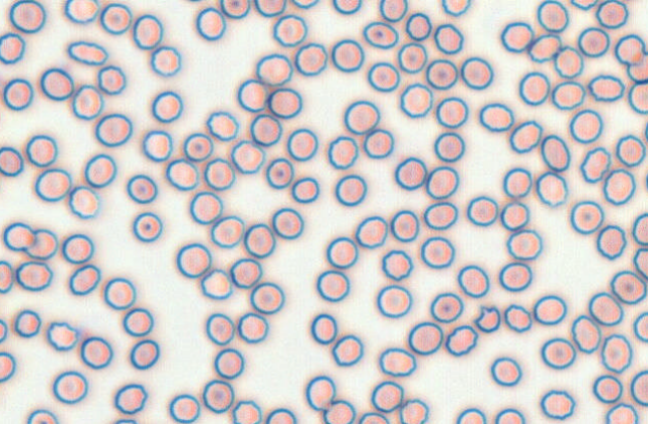RBC: (94, 112, 132, 147), (34, 167, 72, 201), (600, 333, 632, 373), (176, 242, 211, 278), (602, 168, 636, 205), (343, 100, 380, 134), (255, 53, 293, 86), (8, 0, 46, 33), (588, 291, 623, 326), (230, 139, 265, 174), (610, 270, 646, 304), (407, 321, 443, 355), (376, 284, 412, 318), (399, 82, 433, 118), (52, 370, 88, 404), (535, 170, 568, 207), (570, 314, 601, 353), (272, 13, 307, 47), (569, 200, 604, 234), (569, 108, 603, 143), (249, 281, 285, 314), (579, 146, 611, 183), (425, 165, 459, 199), (540, 337, 576, 369), (506, 228, 542, 260), (15, 260, 52, 291), (378, 347, 416, 377), (189, 191, 223, 224), (394, 156, 427, 190), (210, 215, 244, 248), (316, 269, 350, 302), (509, 119, 542, 153), (354, 215, 388, 248), (294, 42, 327, 76), (84, 153, 117, 187), (331, 38, 364, 72), (40, 67, 74, 100), (243, 223, 275, 258), (420, 236, 455, 268), (305, 375, 336, 411), (539, 389, 575, 420), (72, 84, 103, 120), (132, 13, 163, 49), (540, 134, 570, 171), (587, 73, 625, 102), (80, 336, 113, 369), (249, 113, 282, 146), (103, 277, 136, 310), (25, 134, 58, 167), (460, 56, 493, 89), (370, 380, 404, 412), (444, 324, 478, 356), (202, 379, 234, 413), (429, 291, 463, 323), (165, 158, 199, 190), (68, 185, 100, 219), (286, 127, 318, 161), (518, 71, 550, 105), (457, 264, 489, 298), (267, 87, 302, 118), (596, 224, 626, 260), (25, 228, 58, 260), (203, 157, 235, 190), (68, 263, 101, 295), (325, 236, 358, 268), (334, 174, 367, 206), (271, 207, 304, 239), (435, 96, 468, 128), (151, 90, 183, 123), (536, 0, 569, 32), (99, 2, 132, 34), (113, 383, 147, 414), (327, 135, 358, 169), (237, 78, 268, 112), (533, 294, 567, 325), (498, 261, 532, 292), (500, 21, 534, 52), (479, 102, 514, 132), (67, 40, 108, 65), (331, 334, 363, 366), (229, 257, 262, 288), (615, 134, 646, 167), (553, 45, 584, 78), (206, 110, 239, 141), (195, 7, 226, 40), (367, 61, 400, 92), (61, 233, 94, 264), (425, 58, 458, 89), (577, 26, 610, 57), (2, 77, 33, 110), (551, 80, 585, 110), (423, 201, 458, 230), (362, 21, 398, 49), (200, 268, 232, 299), (381, 249, 413, 280), (237, 312, 269, 343), (213, 347, 244, 379), (433, 131, 465, 162), (614, 33, 645, 65), (142, 129, 173, 161), (466, 195, 498, 226), (205, 312, 235, 345), (46, 321, 79, 351), (150, 45, 181, 76), (490, 356, 522, 386), (168, 393, 200, 423), (397, 41, 427, 73), (528, 33, 561, 62), (390, 209, 419, 242), (3, 221, 34, 251), (502, 167, 532, 198), (363, 128, 394, 158), (129, 338, 159, 369), (132, 211, 162, 242), (433, 23, 463, 54), (126, 173, 157, 203), (265, 157, 294, 189), (595, 0, 628, 28), (592, 374, 623, 403), (122, 307, 153, 336), (97, 64, 126, 95), (500, 201, 530, 230), (183, 132, 213, 161), (310, 312, 337, 344), (503, 303, 532, 332), (64, 0, 99, 23), (0, 32, 25, 64), (405, 12, 432, 41), (323, 399, 355, 423), (291, 176, 319, 203), (14, 309, 41, 337), (399, 398, 429, 423), (231, 399, 262, 423), (605, 402, 638, 423), (0, 146, 23, 176), (627, 81, 647, 114), (630, 369, 647, 406), (379, 0, 407, 22), (626, 54, 647, 83), (219, 0, 250, 18), (631, 212, 647, 246), (254, 0, 286, 17), (0, 351, 16, 382), (455, 407, 486, 423), (494, 407, 525, 423), (265, 407, 296, 423), (632, 247, 647, 279), (26, 408, 58, 423), (441, 0, 470, 16), (633, 311, 647, 342), (0, 260, 13, 293), (332, 0, 361, 14), (358, 411, 389, 423), (570, 0, 598, 10), (291, 0, 319, 9), (0, 318, 8, 343), (113, 418, 137, 423), (644, 120, 648, 143), (0, 172, 4, 195), (644, 171, 648, 193), (184, 0, 208, 2)
Schistocyte: (475, 305, 500, 333)
